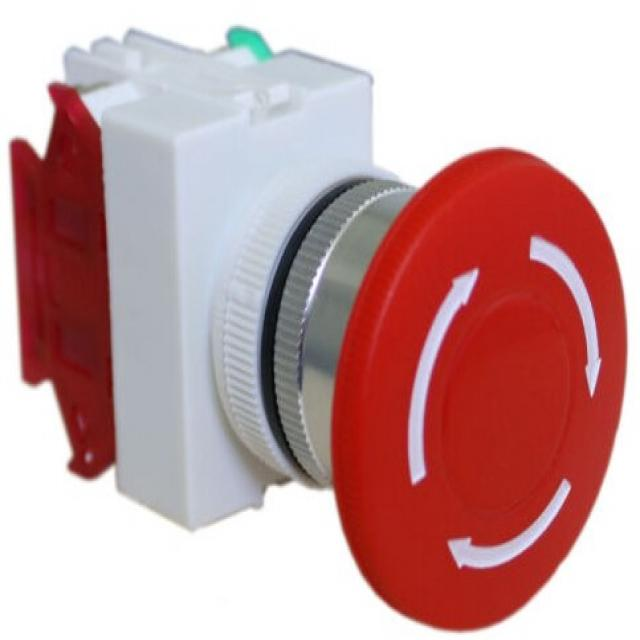safety switch: (226, 154, 623, 625)
